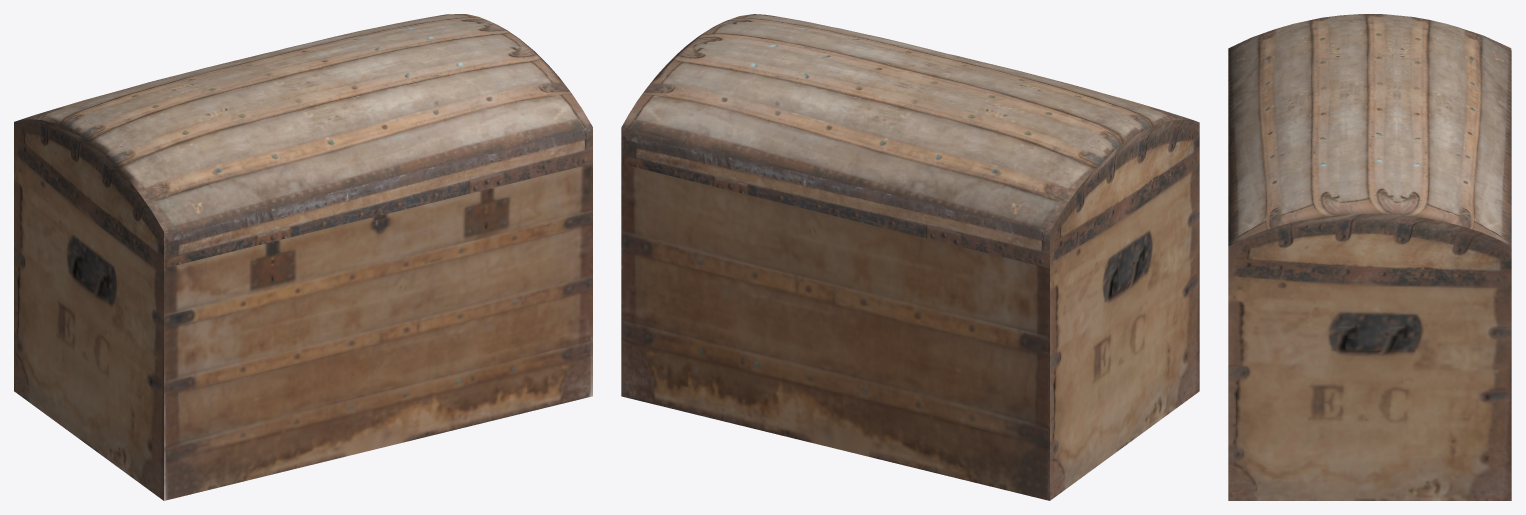
File: Truhe_46955.glb
3 renders of one model, left to right at view 1: azimuth 30°, elevation 25°; view 2: azimuth 150°, elevation 25°; view 3: azimuth 270°, elevation 25°, orthographic. The views are drawn at different scales.
Parts seen in each view (by area): view 1: Truhe_46955_optimized; view 2: Truhe_46955_optimized; view 3: Truhe_46955_optimized.
Boxes of the visible parts, x1,y1,x2,y2 form: Truhe_46955_optimized: (14, 14, 592, 500); Truhe_46955_optimized: (621, 14, 1199, 500); Truhe_46955_optimized: (1228, 14, 1511, 500).
Size of the model in its own units: 0.7502 by 0.5394 by 0.4539.
1 material, 1 textured.
